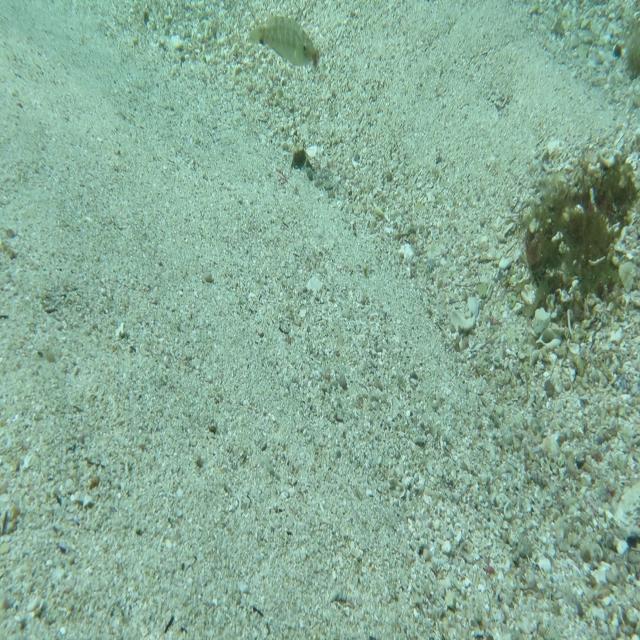AM: (247, 14, 318, 70)
core_nest: (591, 172, 626, 208)
nest: (521, 151, 637, 338)
nest_material: (312, 48, 321, 72)
vegetation: (621, 18, 640, 86), (291, 146, 307, 172)
